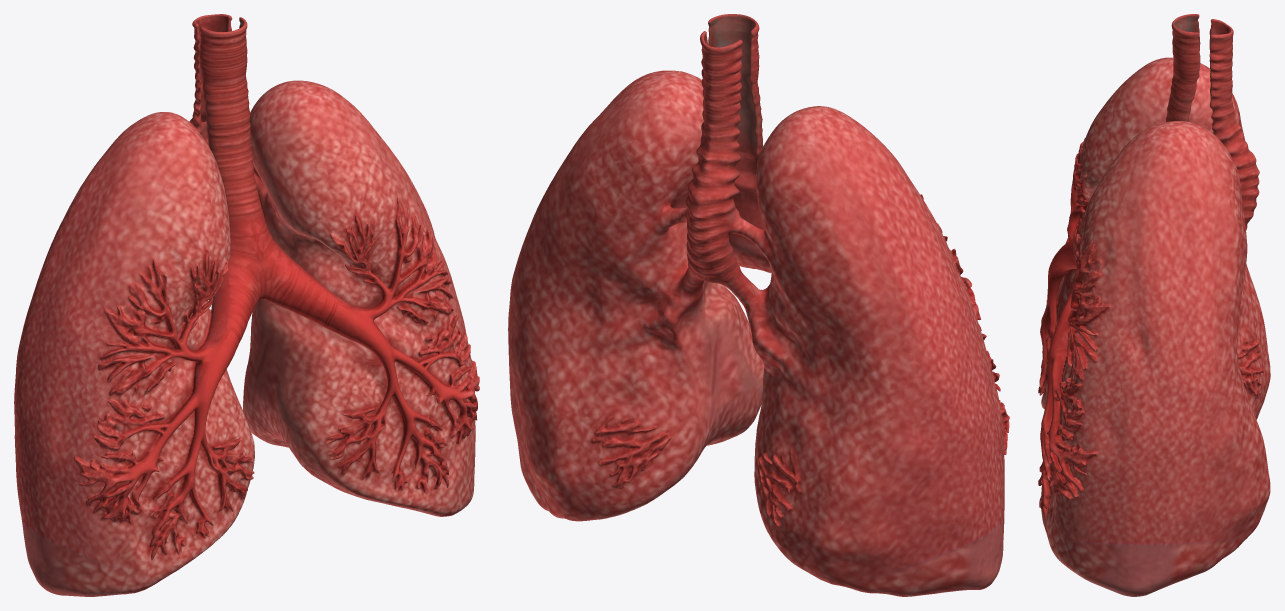
The model's file is Meshy_AI_Human_Lungs_0921185400_texture.obj.
3 renders of one model, left to right at view 1: azimuth 30°, elevation 25°; view 2: azimuth 150°, elevation 25°; view 3: azimuth 270°, elevation 25°, orthographic. The views are drawn at different scales.
Visible parts, largest first — view 1: Meshy_AI_Human_Lungs_0921185400_texture; view 2: Meshy_AI_Human_Lungs_0921185400_texture; view 3: Meshy_AI_Human_Lungs_0921185400_texture.
Part boxes in pixels (x1,y1,x2,y2): Meshy_AI_Human_Lungs_0921185400_texture: [14, 14, 479, 596]; Meshy_AI_Human_Lungs_0921185400_texture: [508, 14, 1009, 596]; Meshy_AI_Human_Lungs_0921185400_texture: [1038, 14, 1270, 596].
Size of the model in its own units: 1.73 by 1.9 by 0.834.
Materials: 1 (1 with a texture image).
